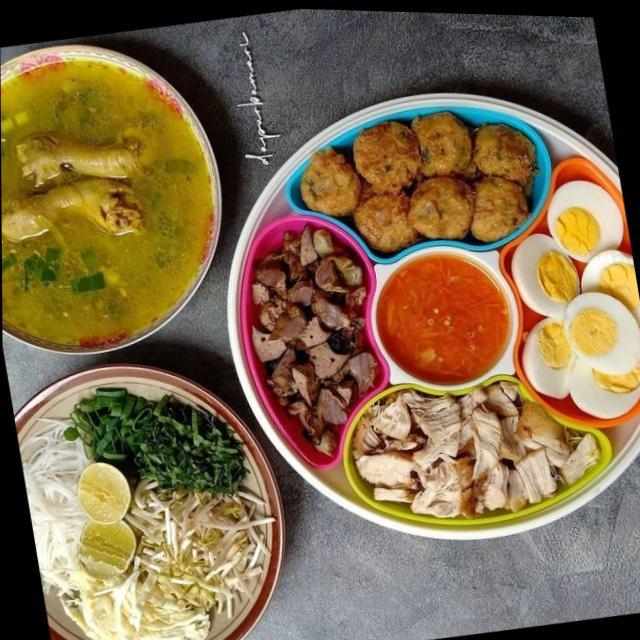Soto: (0, 56, 218, 348)
